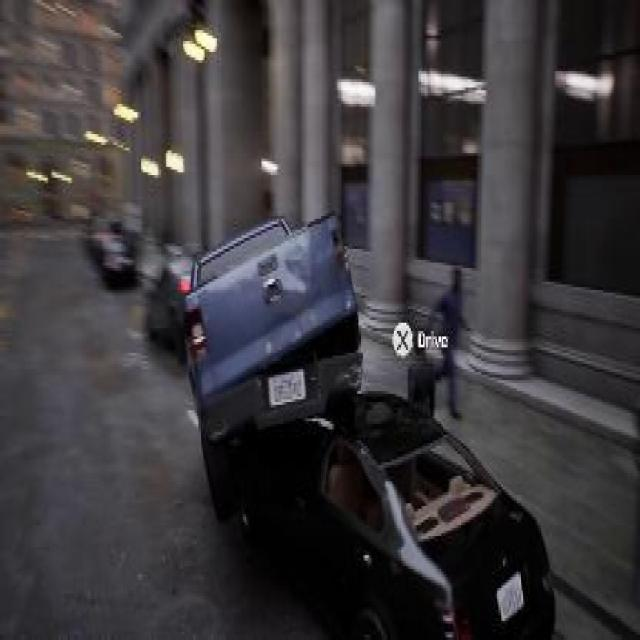accident: (174, 199, 563, 640)
